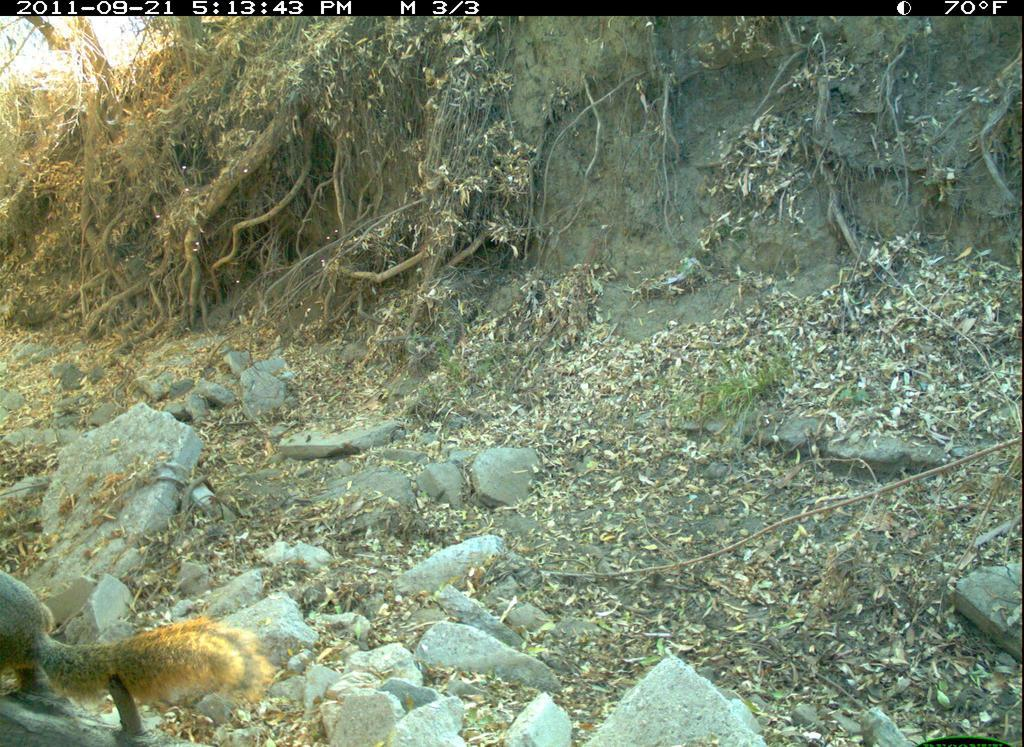squirrel: (4, 519, 283, 716)
